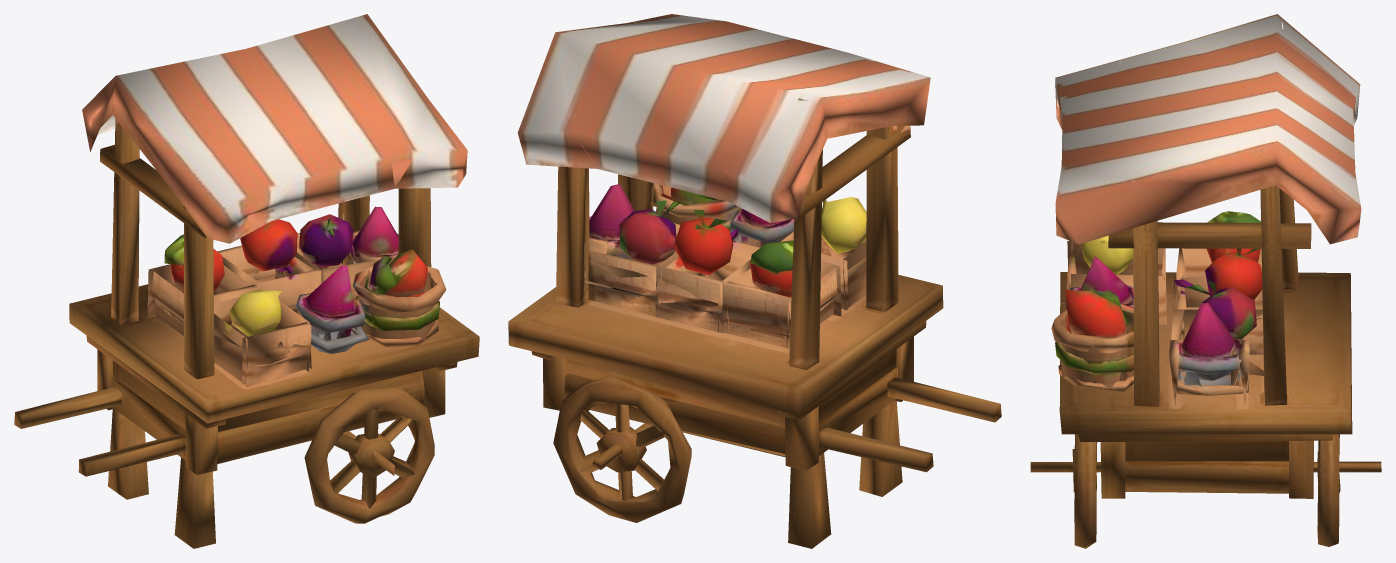
Rendered from cart_market_3.glb.
3 views of the same model, side by side, from view 1: azimuth 30°, elevation 25°; view 2: azimuth 150°, elevation 25°; view 3: azimuth 270°, elevation 25° (orthographic). The views are drawn at different scales.
Parts seen in each view (by area): view 1: ЦІЛЬ; view 2: ЦІЛЬ; view 3: ЦІЛЬ.
Boxes of the visible parts, box(x1,y1,x2,y2) form: ЦІЛЬ: box(14, 14, 479, 548); ЦІЛЬ: box(508, 14, 1001, 548); ЦІЛЬ: box(1030, 14, 1381, 548).
Bounding box in the file's own units: 0.9117 × 1 × 0.7192.
Materials: 1 (1 with a texture image).
